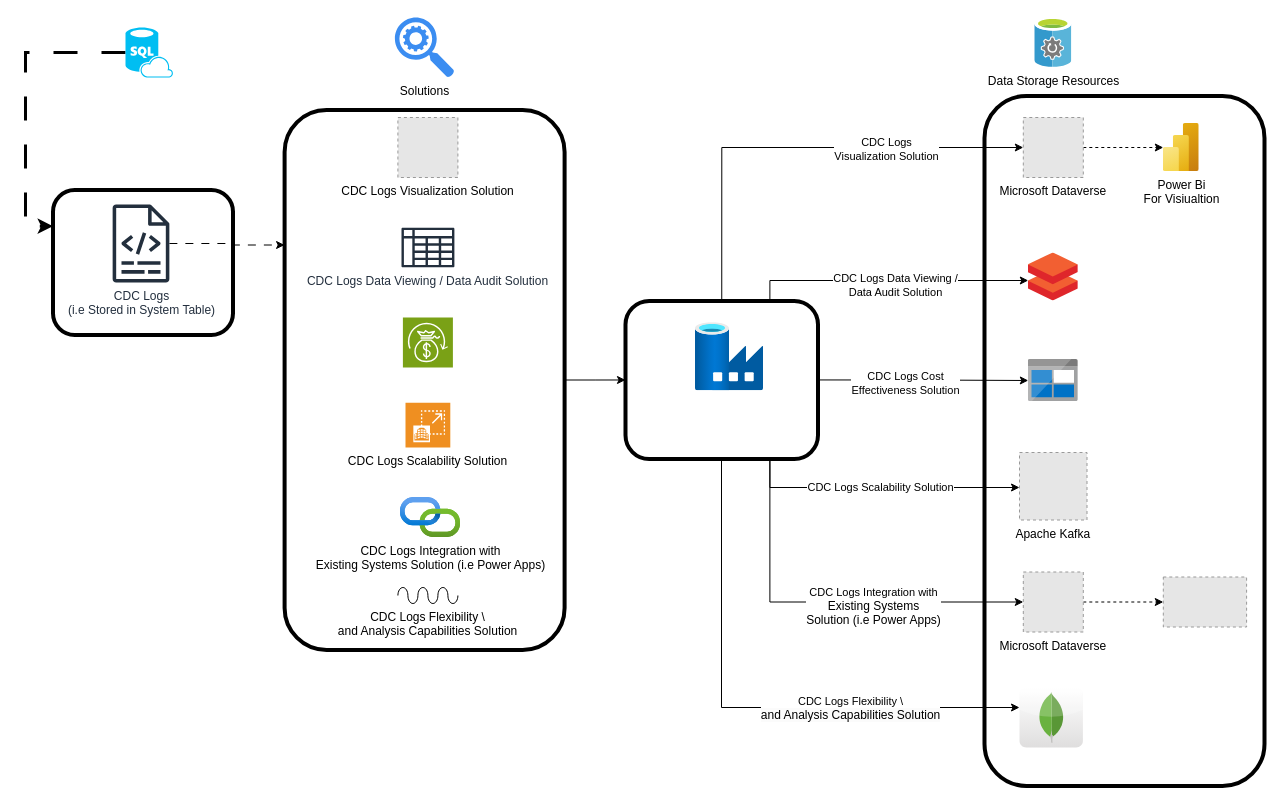
Some shapes in this 1284 by 805 pixel diagram are drawn without their labels. Grey dashed boxes stand in for pictures. Here are the shapes that lost their labels. From the top down, the centre of each, then its label:
At pixel 148 52: "Azure SQL Database".
At pixel 1053 276: "Azure Databricks".
At pixel 427 342: "CDC Logs Cost-Effectiveness Solution".
At pixel 729 356: "Use Azure Data Factory to orchestrate the data movement process".
At pixel 1053 380: "Azure Blob Storage (i.e Table)".
At pixel 1050 717: "MongoDB".
